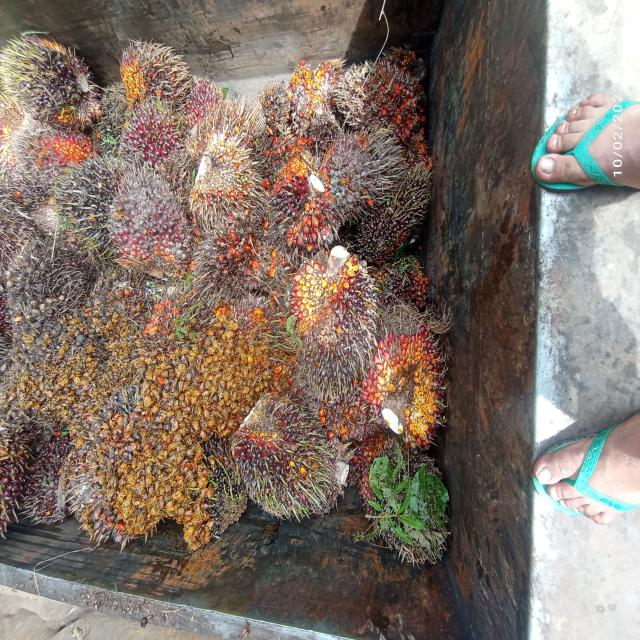fraksi 00: (0, 28, 102, 130), (362, 150, 431, 270), (58, 154, 126, 238), (377, 242, 434, 316)
fraksi 1: (217, 373, 341, 536), (285, 237, 381, 418), (102, 154, 192, 296), (262, 140, 341, 267), (311, 121, 387, 223), (110, 20, 192, 104)
fraksi 3: (352, 274, 455, 447), (113, 89, 189, 184)
fraksi 4: (328, 43, 440, 139), (195, 217, 274, 309), (19, 115, 95, 188)
